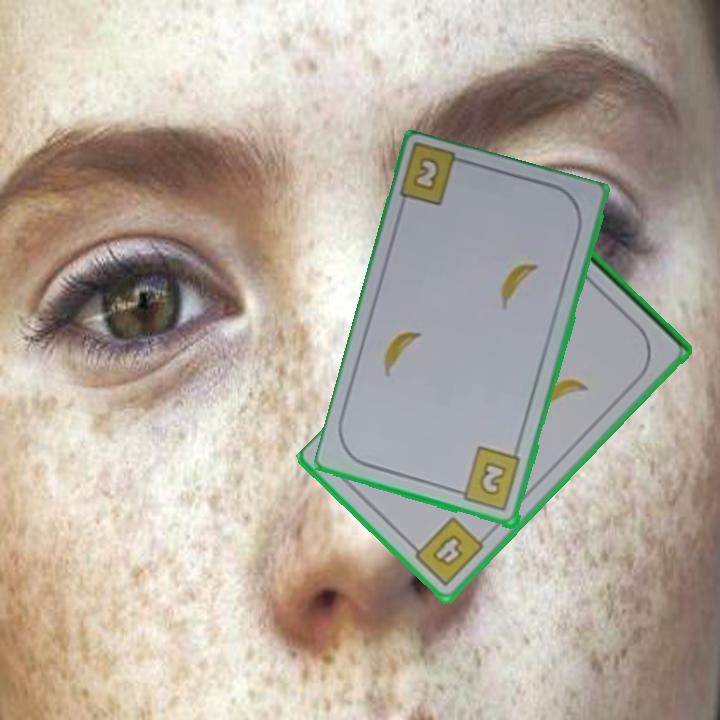2b: (451, 444, 524, 515), (412, 157, 440, 191)
4b: (405, 513, 487, 590)
